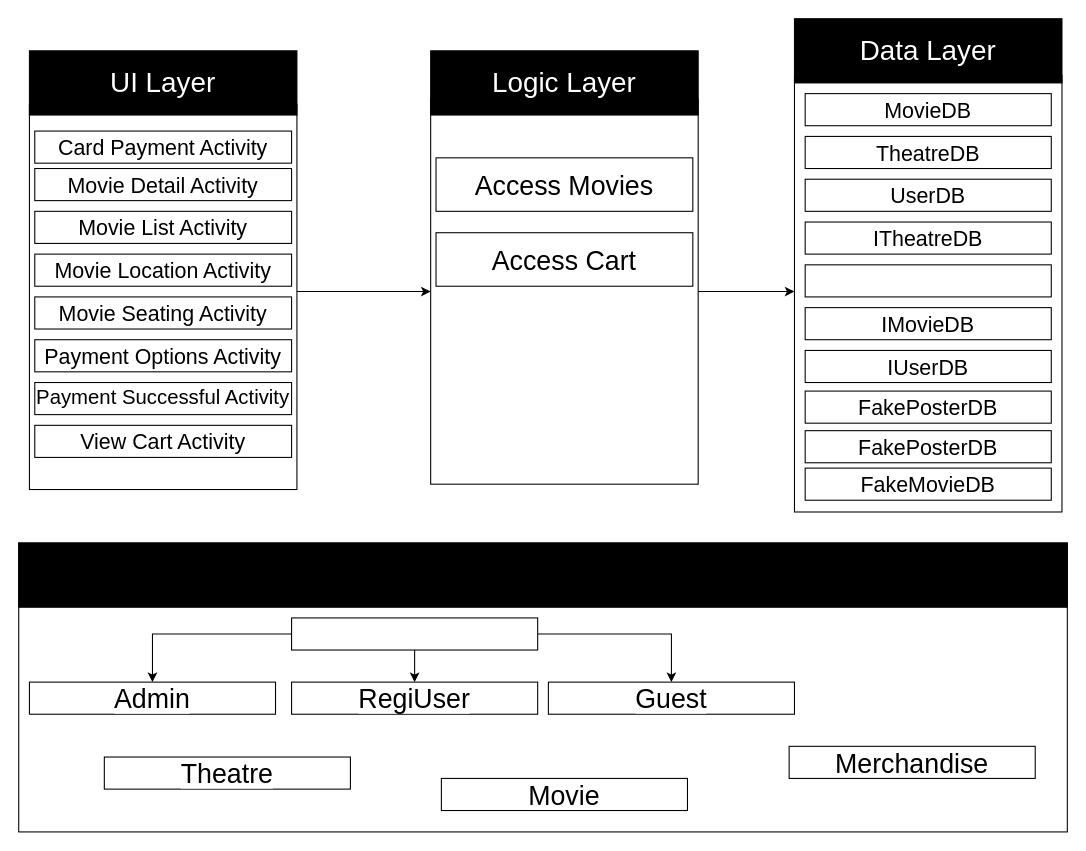
The diagram is 1086 pixels wide and 851 high, and some of its shapes have lost their labels. The shapes that lost their labels are listed below. From the top down, each one's centre as x and y in pixels, then its label:
the point at 927,280: IPosterDB
the point at 542,574: Domain Specific Objects
the point at 414,633: User
